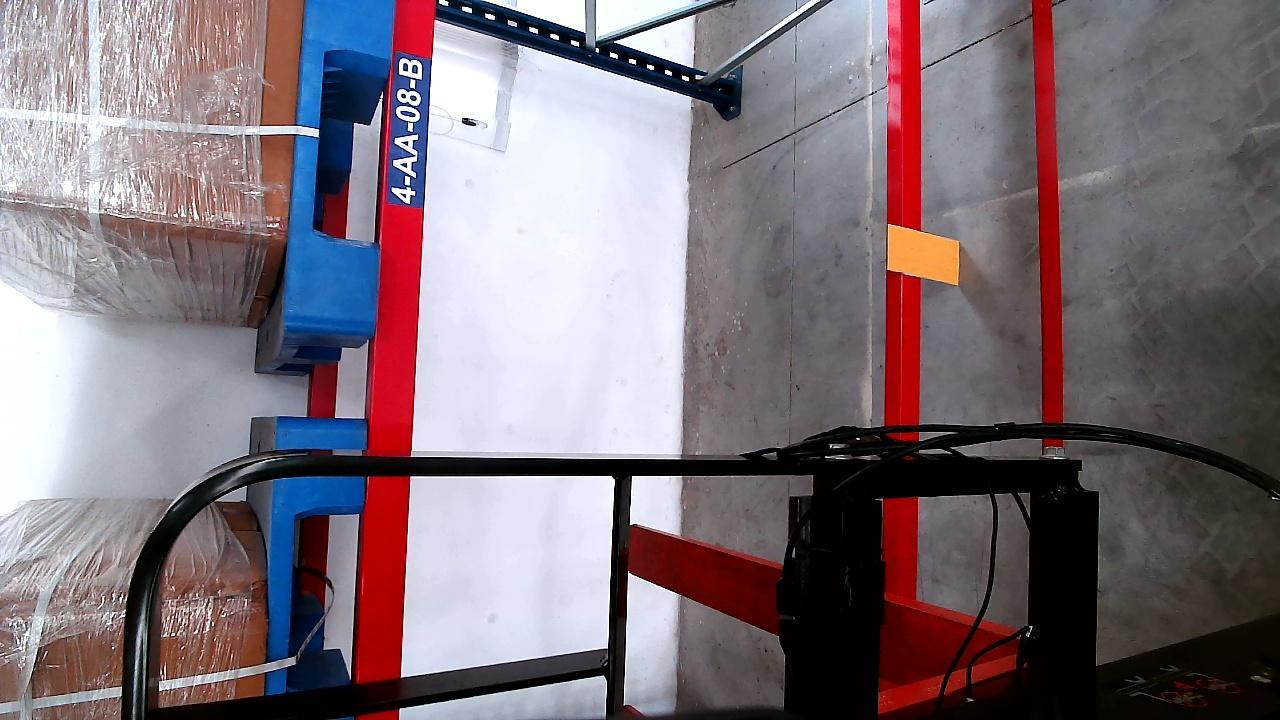red_line: (1033, 0, 1067, 447)
